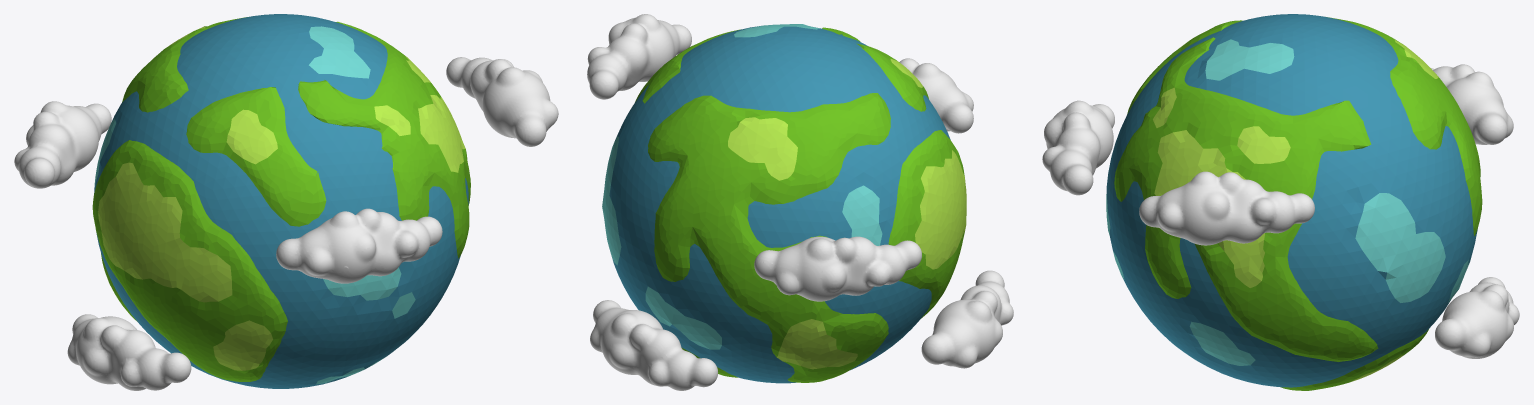
File: earth.glb
3 renders of one model, left to right at view 1: azimuth 30°, elevation 25°; view 2: azimuth 150°, elevation 25°; view 3: azimuth 270°, elevation 25°, orthographic. The views are drawn at different scales.
Visible parts, largest first — view 1: Tierra, Mar, Nubes; view 2: Mar, Tierra, Nubes; view 3: Mar, Tierra, Nubes.
Boxes of the visible parts, bbox=[...] form: Tierra: bbox=[92, 17, 470, 381]; Mar: bbox=[94, 14, 468, 388]; Nubes: bbox=[14, 57, 558, 390]; Mar: bbox=[602, 24, 950, 383]; Tierra: bbox=[635, 27, 966, 382]; Nubes: bbox=[587, 14, 1013, 390]; Mar: bbox=[1106, 14, 1477, 387]; Tierra: bbox=[1114, 17, 1482, 390]; Nubes: bbox=[1042, 64, 1519, 358].
Bounding box in the file's own units: 2.68 × 2.03 × 2.57.
Materials: 4 (1 with a texture image).
